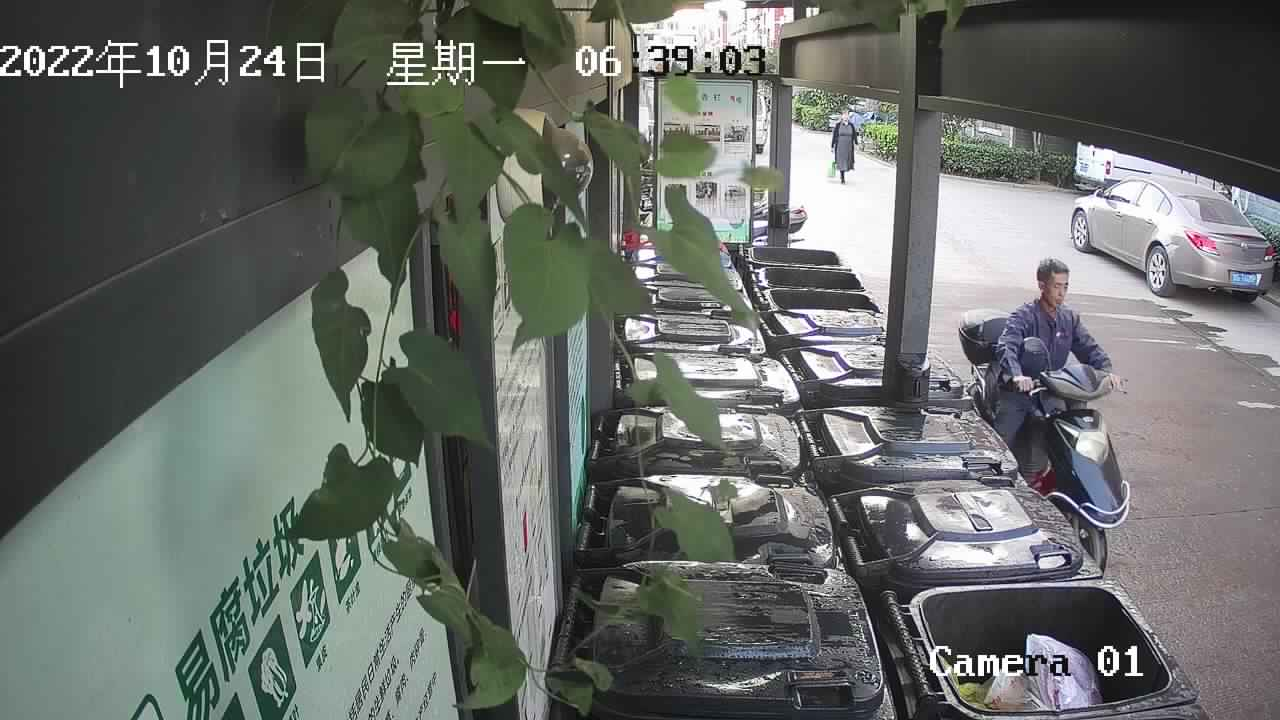person: (825, 101, 863, 187)
worker: (980, 248, 1122, 460)
